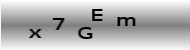7: (51, 17, 66, 31)
E: (91, 8, 103, 22)
G: (77, 26, 93, 40)
m: (115, 16, 135, 27)
x: (27, 28, 42, 39)
